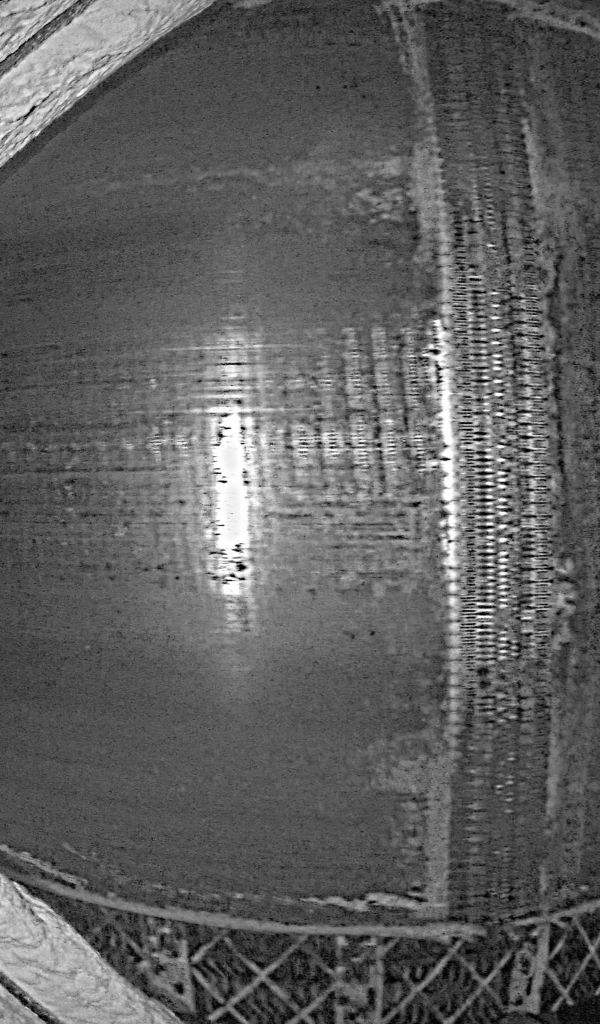splice: (393, 4, 572, 920)
